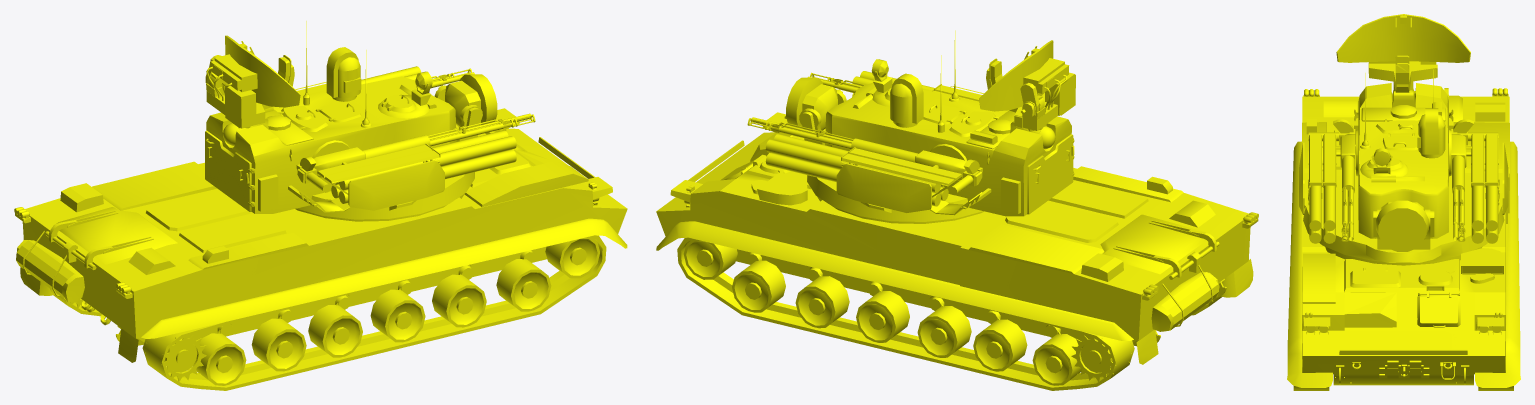
The model's file is tung.glb.
3 views of the same model, side by side, from view 1: azimuth 30°, elevation 25°; view 2: azimuth 150°, elevation 25°; view 3: azimuth 270°, elevation 25° (orthographic). The views are drawn at different scales.
Visible parts, largest first — view 1: hull, turret, skirts, track, radar, weapon2, weapon9, sensor, weapon7, wheel 40, tire21, tire22 (+18 smaller); view 2: hull, turret, skirts, track2, radar, weapon, weapon5, sensor, weapon3, wheel 30, tire18, tire15 (+17 smaller); view 3: hull, turret, skirts, radar, sensor, weapon, weapon2, weapon3, weapon7, weapon5, weapon9, hatch2 (+6 smaller).
Part boxes in pixels (<box>): hull: <box>15,108,627,342</box>; turret: <box>205,47,482,221</box>; skirts: <box>20,218,627,362</box>; track: <box>142,235,606,390</box>; radar: <box>205,35,300,128</box>; weapon2: <box>296,113,535,192</box>; weapon9: <box>325,136,516,194</box>; sensor: <box>445,74,497,127</box>; weapon7: <box>317,130,508,184</box>; wheel 40: <box>145,334,206,381</box>; tire21: <box>370,289,425,342</box>; tire22: <box>251,318,306,371</box>; hull: <box>656,112,1258,342</box>; turret: <box>799,59,1074,223</box>; skirts: <box>656,221,1253,364</box>; track2: <box>677,237,1134,390</box>; radar: <box>979,40,1075,130</box>; weapon: <box>747,117,982,195</box>; weapon5: <box>766,139,954,197</box>; sensor: <box>786,77,837,130</box>; weapon3: <box>773,134,962,187</box>; wheel 30: <box>1071,335,1131,381</box>; tire18: <box>795,276,849,328</box>; tire15: <box>973,319,1027,371</box>; hull: <box>1302,88,1509,385</box>; turret: <box>1299,81,1508,265</box>; skirts: <box>1287,141,1520,387</box>; radar: <box>1336,14,1470,92</box>; sensor: <box>1376,200,1428,251</box>; weapon: <box>1451,119,1498,241</box>; weapon2: <box>1308,119,1355,241</box>; weapon3: <box>1466,134,1484,224</box>; weapon7: <box>1322,134,1340,225</box>; weapon5: <box>1485,134,1499,225</box>; weapon9: <box>1308,134,1322,224</box>; hatch2: <box>1350,267,1400,287</box>.
Bounding box in the file's own units: 8.21 × 4.25 × 3.42.
